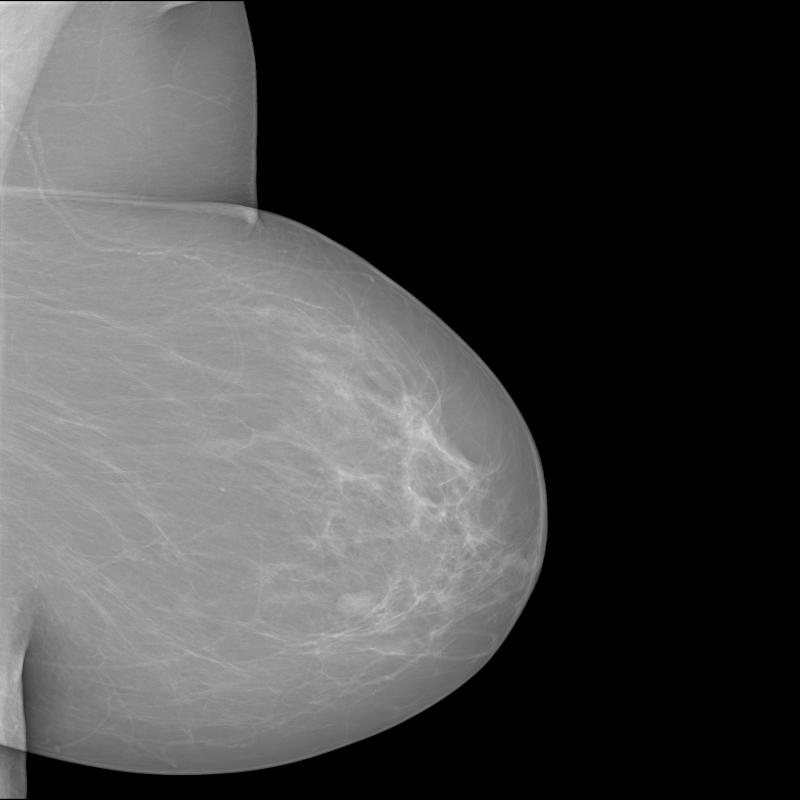Mass: (315, 569, 397, 637)
